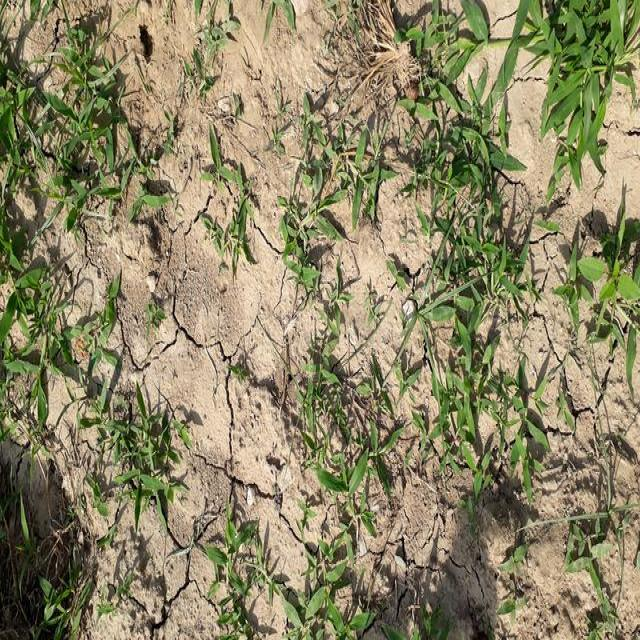weed: (390, 0, 525, 495), (2, 258, 193, 538), (0, 25, 169, 226), (284, 344, 396, 640), (279, 100, 383, 290), (532, 0, 638, 182), (573, 390, 639, 617), (206, 512, 276, 640), (578, 226, 640, 360), (12, 526, 82, 640), (207, 140, 256, 271), (515, 376, 548, 472), (406, 565, 442, 640), (88, 564, 143, 612), (197, 0, 235, 64), (218, 348, 256, 392), (494, 535, 532, 576), (560, 251, 582, 321), (262, 0, 308, 33), (550, 384, 582, 428), (188, 58, 214, 95), (502, 595, 528, 621)
